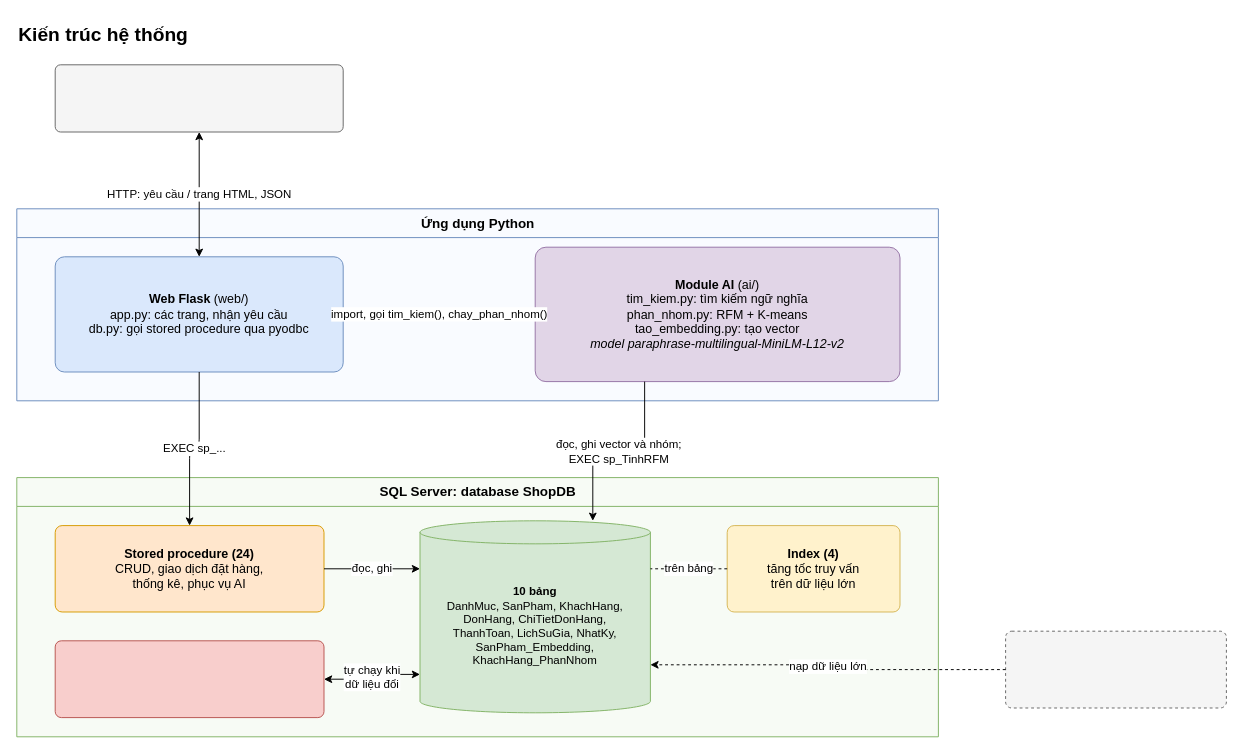
The diagram is 1243 pixels wide and 754 high, and some of its shapes have lost their labels. Each missing label, with the centre of its shape:
Script nạp dữ liệu 03b_nap_du_lieu_lon.sql data/tai_du_lieu_tiki.py: the point at 1115,669
Trigger (4) chặn xóa, lịch sử giá, nhật ký đơn, cảnh báo kho: the point at 189,679
Trình duyệt HTML + Bootstrap + Chart.js: the point at 198,98
